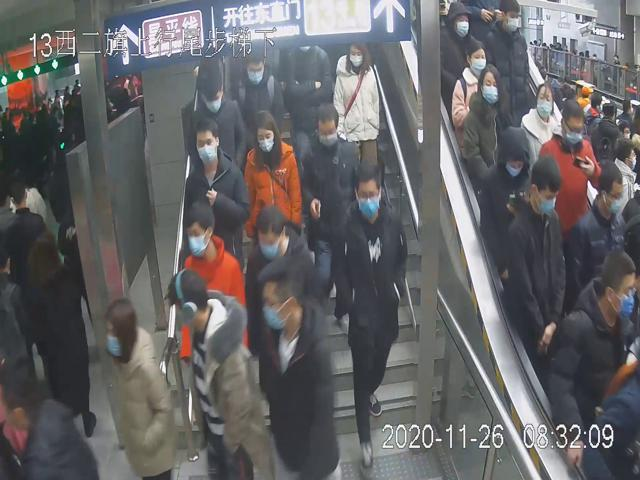person: (333, 160, 409, 480), (170, 267, 273, 480), (257, 256, 342, 480), (300, 103, 362, 335), (508, 152, 566, 370), (179, 199, 248, 377), (243, 203, 319, 349), (184, 123, 248, 271), (243, 109, 303, 262), (331, 38, 384, 183), (183, 66, 244, 177), (464, 61, 511, 195), (450, 37, 498, 158), (234, 55, 284, 128), (519, 81, 561, 163)
